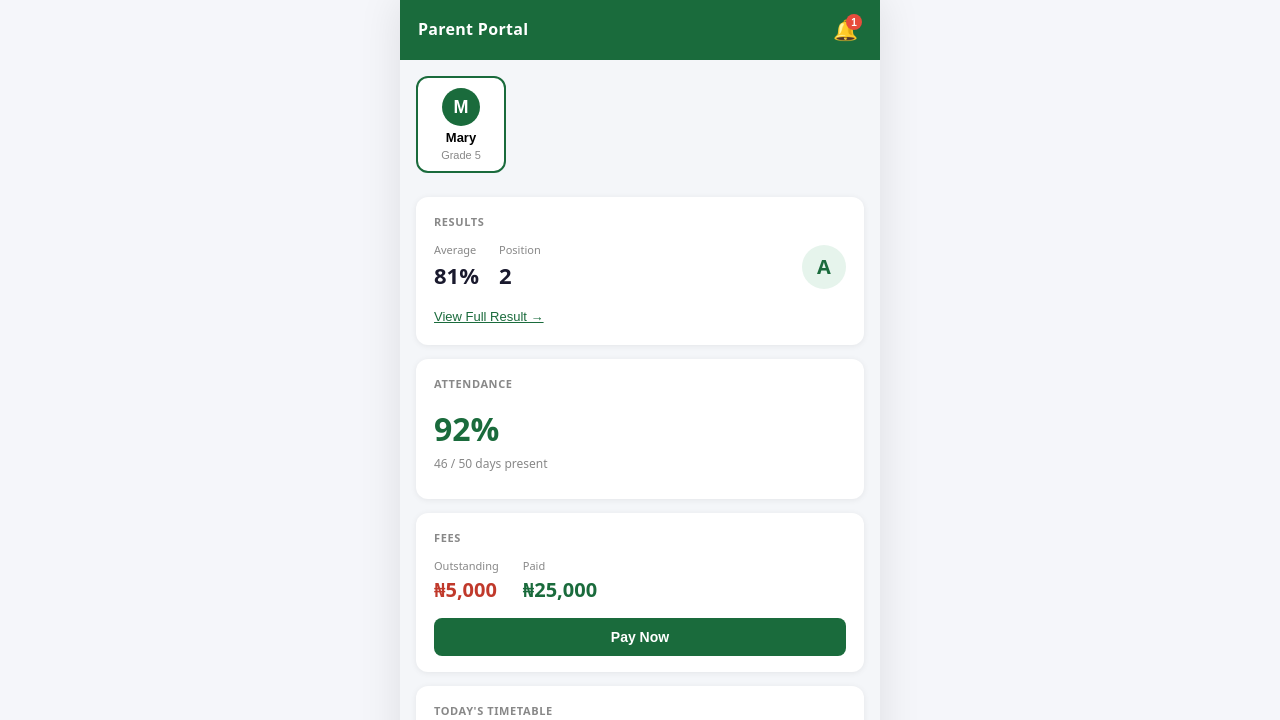
Test: ParentDashboard › opens the notification drawer with recent messages
Check: the text "81%" is shown, box [434,258,479,293]
Click the button "🔔 1": (846, 30) [829,14,862,46]
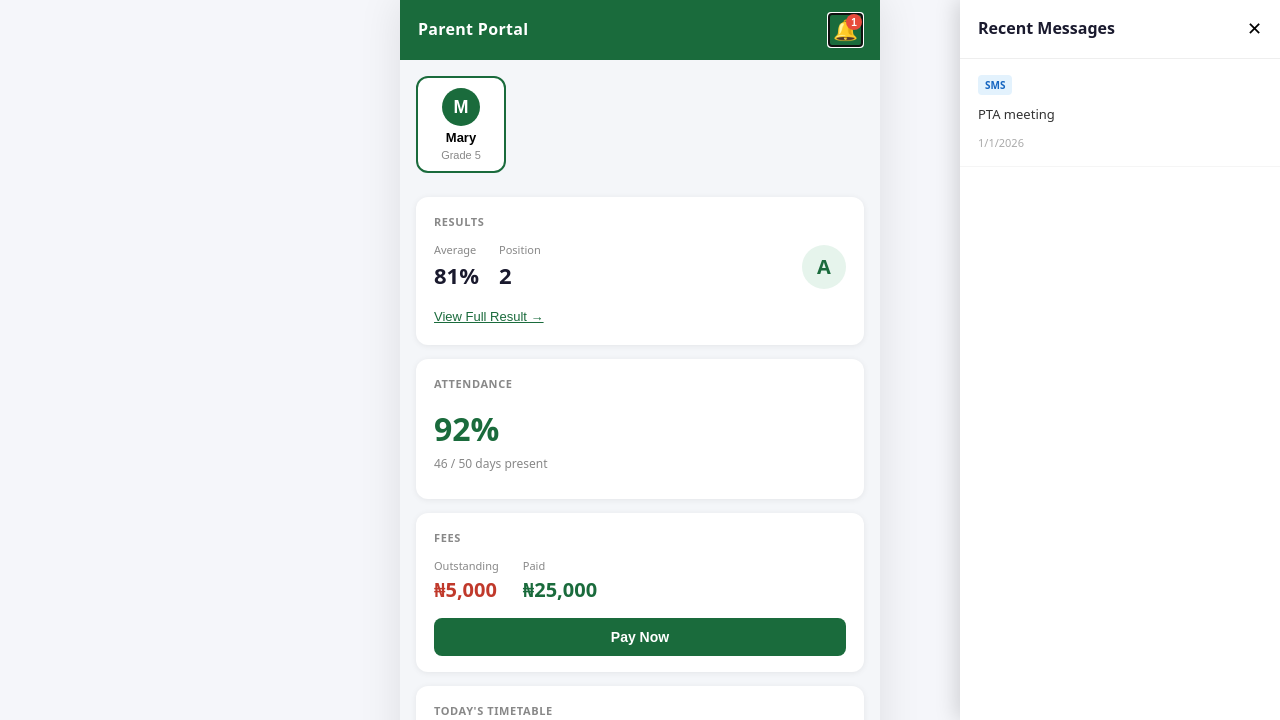
Check: the text "Recent Messages" is shown, box [978,17,1115,39]
Check: the text "PTA meeting" is shown, box [978,105,1055,123]
